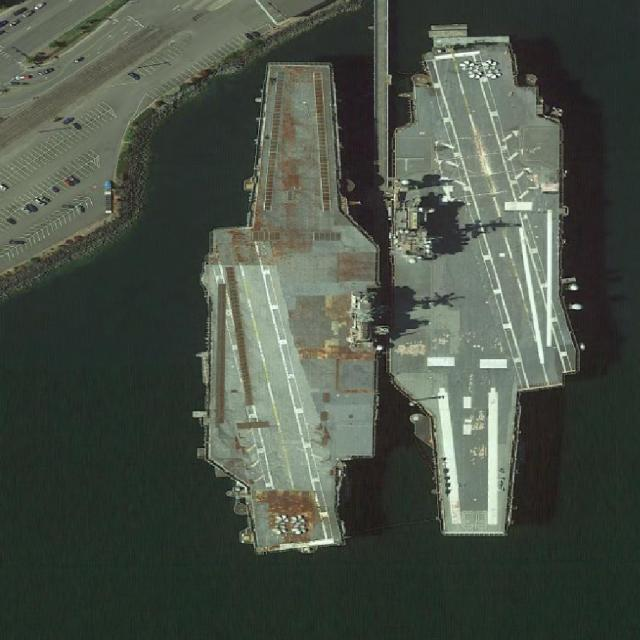Aircraft Carrier: (385, 40, 584, 537), (196, 62, 382, 553)
Dock: (374, 4, 392, 244)
